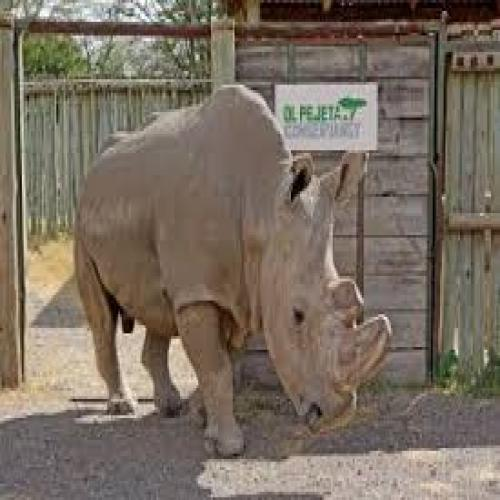rhino-endangered: (72, 87, 394, 456)
